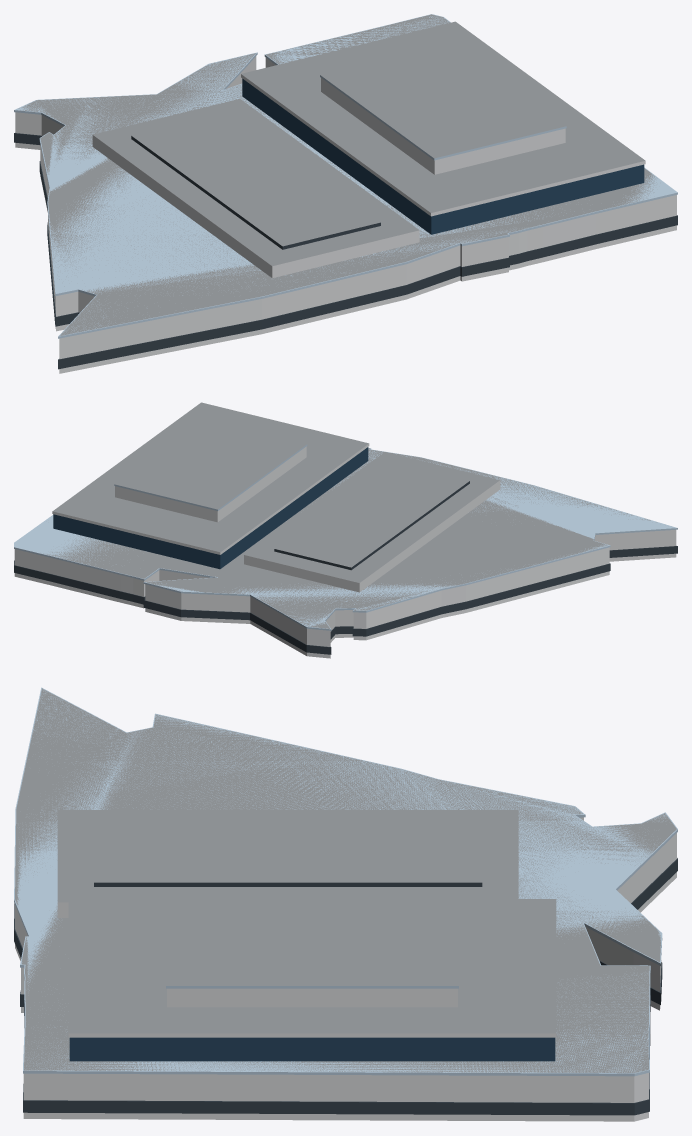
File: fontainebleau_resort_c_w134068317.glb
3 renders of one model, top to bottom at view 1: azimuth 30°, elevation 25°; view 2: azimuth 150°, elevation 25°; view 3: azimuth 270°, elevation 25°, orthographic. The views are drawn at different scales.
Visible parts, largest first — view 1: Resort_w134068317; view 2: Resort_w134068317; view 3: Resort_w134068317.
Boxes of the visible parts, x1,y1,x2,y2 form: Resort_w134068317: (14, 14, 677, 373); Resort_w134068317: (14, 402, 677, 658); Resort_w134068317: (14, 687, 677, 1121).
Size of the model in its own units: 377 by 44.8 by 274.
